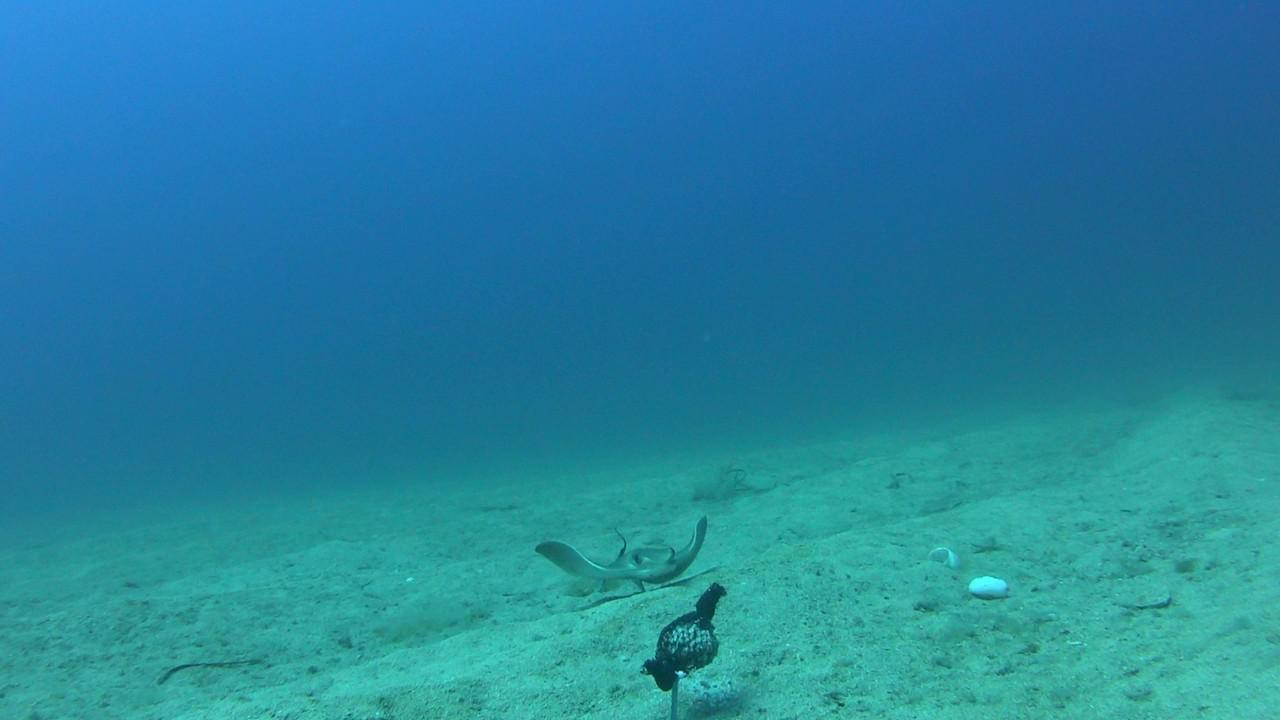myliobatis: (532, 514, 713, 592)
